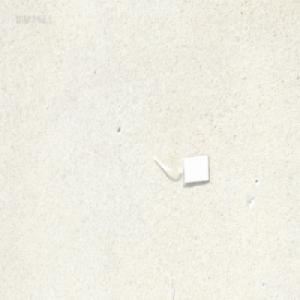LuggageTag: (153, 153, 210, 186)
